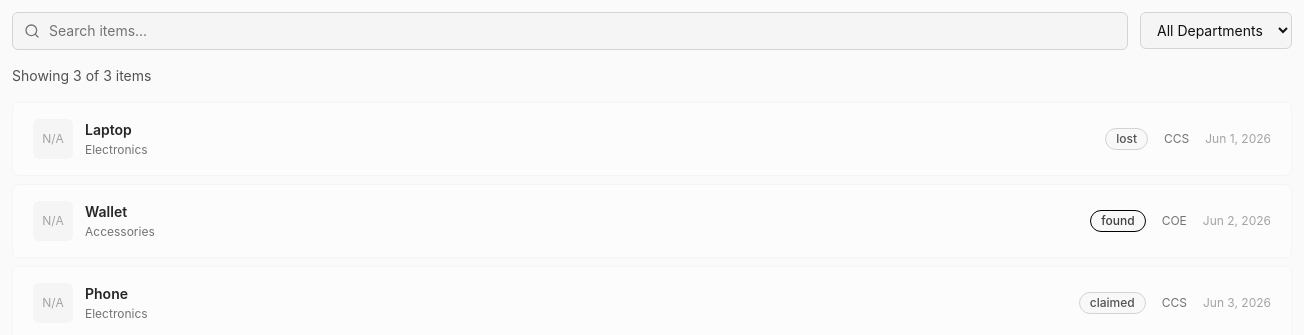
Scenario: GlobalLedger › search functionality › shows no results message when search matches nothing
Type "zzzzz" into the field with placeholder "Search items..." at (570, 31), box [12,12,1128,50]
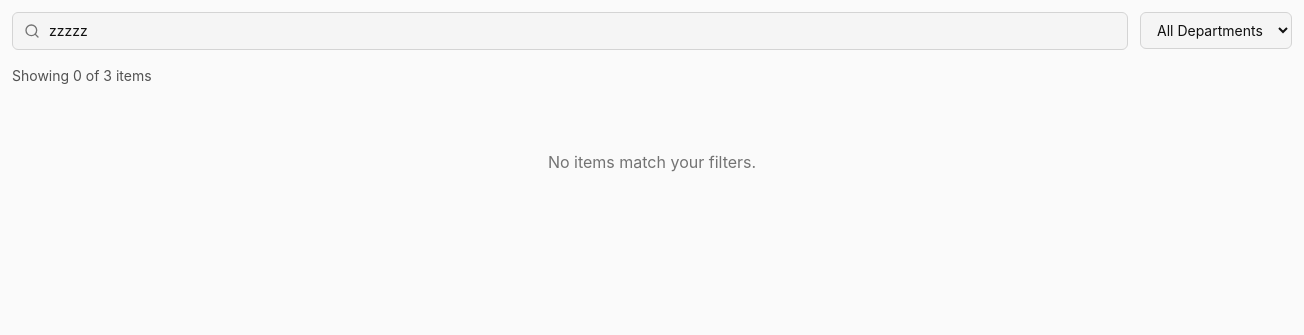
expect the text "No items match your filters." is shown: met, box [548,152,756,172]
